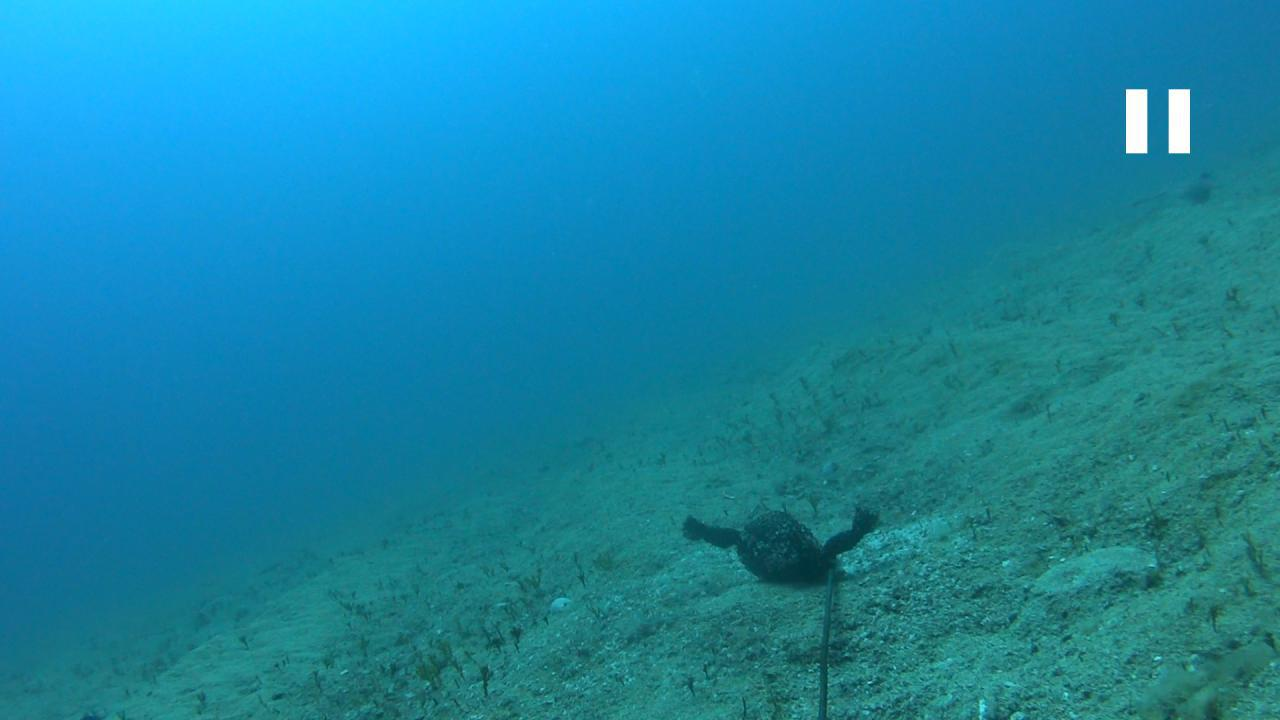dasyatis: (1130, 166, 1217, 210)
